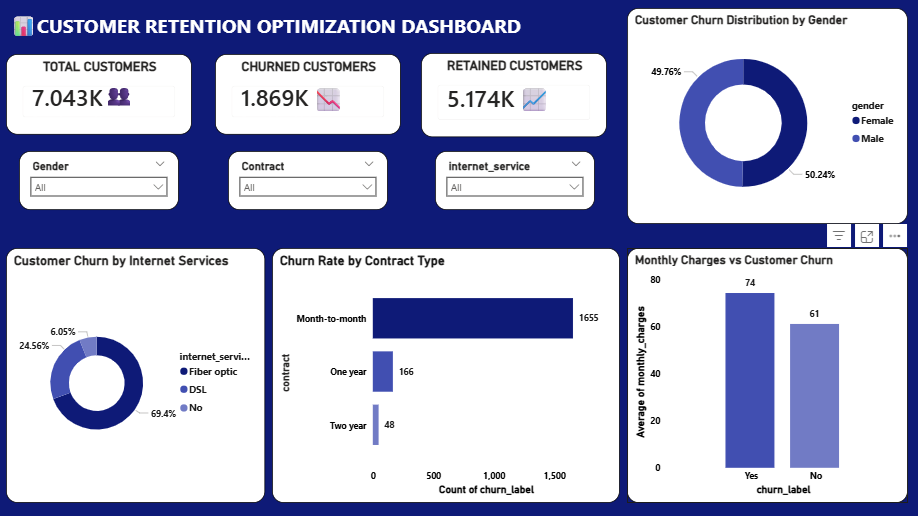

What the dashboard file says about the page in this screenshot:
{"tool":"powerbi","page":{"name":"Page 1","canvas":[1280,720],"ordinal":0},"visuals":[{"type":"shape","box":[0,0,1280,720],"z":0},{"type":"textbox","box":[10.7,13.7,816.8,79.2],"z":1000},{"type":"cardVisual","title":"TOTAL CUSTOMERS","fields":{"Data":["CountNonNull(customer_churn_final_dashboard.customerid)"]},"box":[10,76.7,258.3,111.7],"z":2000},{"type":"cardVisual","title":"CHURNED CUSTOMERS","fields":{"Data":["CountNonNull(customer_churn_final_dashboard.churn_label)"]},"box":[300,76.7,258.3,111.7],"z":3000},{"type":"cardVisual","title":"RETAINED CUSTOMERS","fields":{"Data":["CountNonNull(customer_churn_final_dashboard.churn_label)"]},"box":[586.7,75,258.3,116.7],"z":4000},{"type":"donutChart","title":"Customer Churn Distribution by Gender","fields":{"Category":["customer_churn_final_dashboard.gender"],"Y":["CountNonNull(customer_churn_final_dashboard.churn_label)"]},"box":[872.9,12.9,390,300],"z":5000},{"type":"clusteredBarChart","title":"Churn Rate by Contract Type","fields":{"Category":["customer_churn_final_dashboard.contract"],"Y":["CountNonNull(customer_churn_final_dashboard.churn_label)"]},"box":[378.6,345.7,482.9,354.3],"z":6000},{"type":"clusteredColumnChart","title":"Monthly Charges vs Customer Churn","fields":{"Category":["customer_churn_final_dashboard.churn_label"],"Y":["Avg(customer_churn_final_dashboard.monthly_charges)"]},"box":[872.9,345.7,390,354.3],"z":7000},{"type":"donutChart","title":"Customer Churn by Internet  Services","fields":{"Category":["customer_churn_final_dashboard.internet_service"],"Y":["CountNonNull(customer_churn_final_dashboard.churn_label)"]},"box":[10,345.7,360,354.3],"z":8000},{"type":"slicer","fields":{"Values":["customer_churn_final_dashboard.gender"]},"box":[28.3,211.7,221.7,81.7],"z":9000},{"type":"slicer","fields":{"Values":["customer_churn_final_dashboard.contract"]},"box":[318.3,211.7,221.7,81.7],"z":10000},{"type":"slicer","fields":{"Values":["customer_churn_final_dashboard.internet_service"]},"box":[605,211.7,221.7,81.7],"z":11000},{"type":"textbox","box":[140,102.9,77.1,61.4],"z":12000},{"type":"textbox","box":[430,111,73,53],"z":13000},{"type":"textbox","box":[717,111,66,53],"z":14000}]}

Visuals, with their boxes in screenshot pixels (x1, y1, x2, y2), scaled from the page's 1280x720 canvas onto the 918x516 screenshot:
shape: x1=0, y1=0, x2=917, y2=515
textbox: x1=8, y1=10, x2=593, y2=67
"TOTAL CUSTOMERS" cardVisual: x1=7, y1=55, x2=192, y2=135
"CHURNED CUSTOMERS" cardVisual: x1=215, y1=55, x2=400, y2=135
"RETAINED CUSTOMERS" cardVisual: x1=421, y1=54, x2=606, y2=137
"Customer Churn Distribution by Gender" donutChart: x1=626, y1=9, x2=906, y2=224
"Churn Rate by Contract Type" clusteredBarChart: x1=272, y1=248, x2=618, y2=502
"Monthly Charges vs Customer Churn" clusteredColumnChart: x1=626, y1=248, x2=906, y2=502
"Customer Churn by Internet  Services" donutChart: x1=7, y1=248, x2=265, y2=502
slicer - customer_churn_final_dashboard.gender: x1=20, y1=152, x2=179, y2=210
slicer - customer_churn_final_dashboard.contract: x1=228, y1=152, x2=387, y2=210
slicer - customer_churn_final_dashboard.internet_service: x1=434, y1=152, x2=593, y2=210
textbox: x1=100, y1=74, x2=156, y2=118
textbox: x1=308, y1=80, x2=361, y2=118
textbox: x1=514, y1=80, x2=562, y2=118
